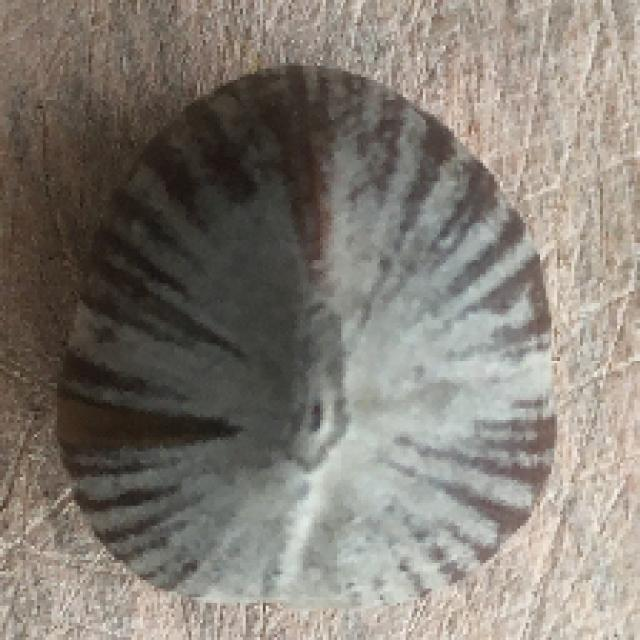DamagedHazelnut: (55, 66, 558, 611)
